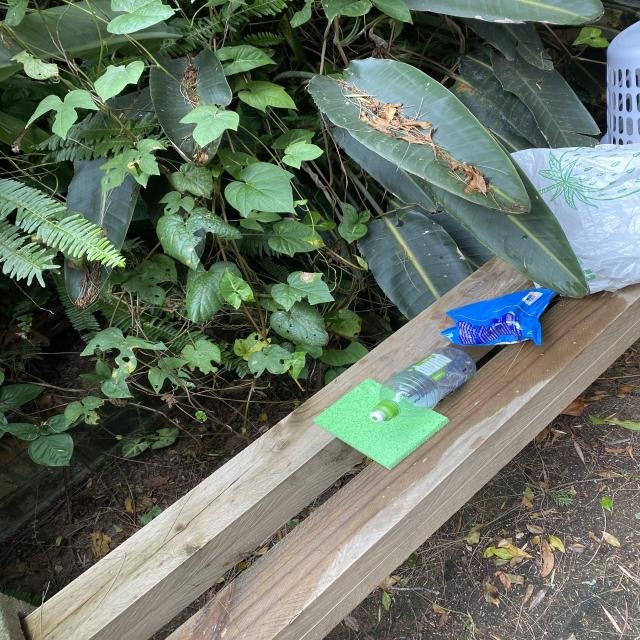bag: (509, 142, 640, 293), (440, 289, 556, 346)
bottle: (370, 347, 477, 422)
sponge: (313, 378, 449, 470)
